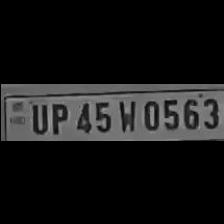0: (138, 96, 160, 130)
3: (200, 94, 220, 128)
4: (72, 98, 90, 132)
5: (92, 97, 112, 133), (161, 95, 179, 131)
6: (180, 95, 198, 129)
P: (47, 100, 70, 132)
U: (26, 100, 48, 132)
W: (114, 96, 138, 132)
